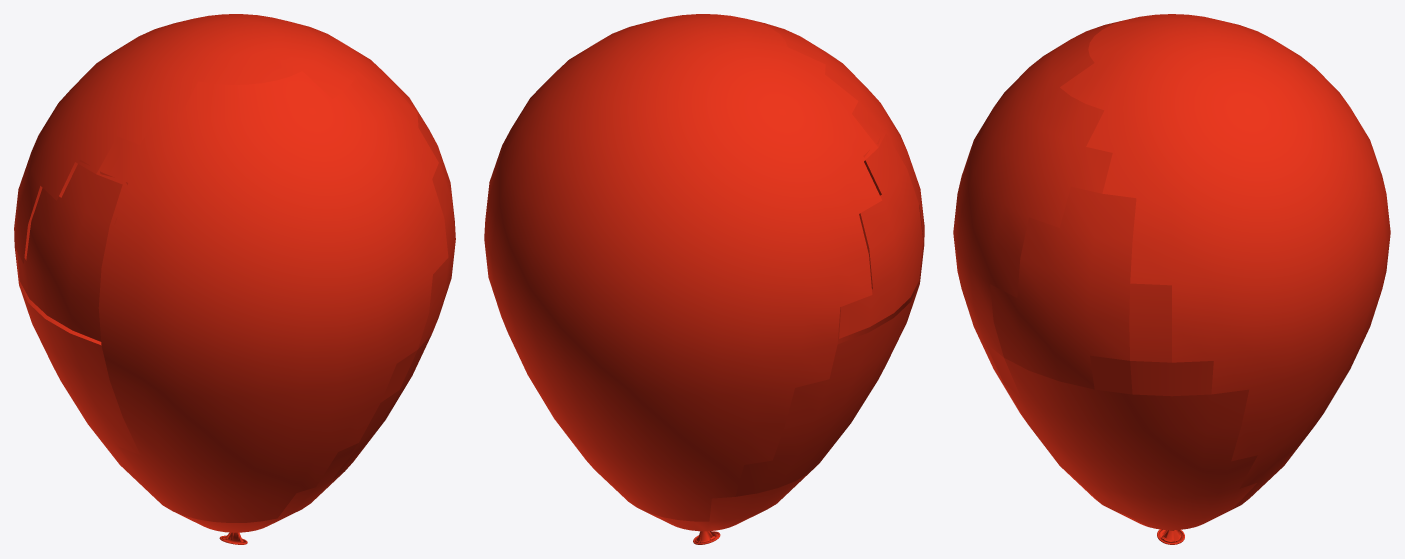
Rendered from BalloonDeath 1.fbx.
The picture shows the model from 3 angles, left to right: view 1: azimuth 30°, elevation 25°; view 2: azimuth 150°, elevation 25°; view 3: azimuth 270°, elevation 25°; orthographic projection.
Parts seen in each view (by area): view 1: 구체.002, 구체.001, 구체.003, 구체.004, 구체.012, 구체.008, 구체.005, 구체.007; view 2: 구체.001, 구체.004, 구체.003, 구체.002, 구체.009; view 3: 구체.001, 구체.005, 구체.002, 구체.012, 구체.006, 구체.007, 구체.013.
Boxes of the visible parts, box(x1,y1,x2,y2) form: 구체.002: box(96, 71, 448, 544); 구체.001: box(14, 14, 416, 345); 구체.003: box(17, 159, 127, 341); 구체.004: box(19, 286, 142, 481); 구체.012: box(411, 101, 455, 348); 구체.008: box(127, 443, 358, 544); 구체.005: box(333, 334, 431, 478); 구체.007: box(381, 350, 417, 402); 구체.001: box(484, 14, 881, 544); 구체.004: box(735, 285, 919, 496); 구체.003: box(839, 128, 923, 338); 구체.002: box(710, 19, 924, 541); 구체.009: box(662, 488, 777, 531); 구체.001: box(1060, 14, 1390, 540); 구체.005: box(1004, 358, 1257, 530); 구체.002: box(953, 20, 1164, 540); 구체.012: box(990, 186, 1136, 389); 구체.006: box(1129, 283, 1171, 362); 구체.007: box(985, 343, 1213, 396); 구체.013: box(1090, 355, 1132, 394).
Size of the model in its own units: 202 by 255 by 200.
